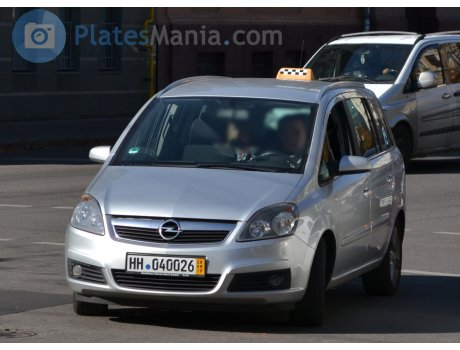License Plates: (131, 255, 200, 273)
